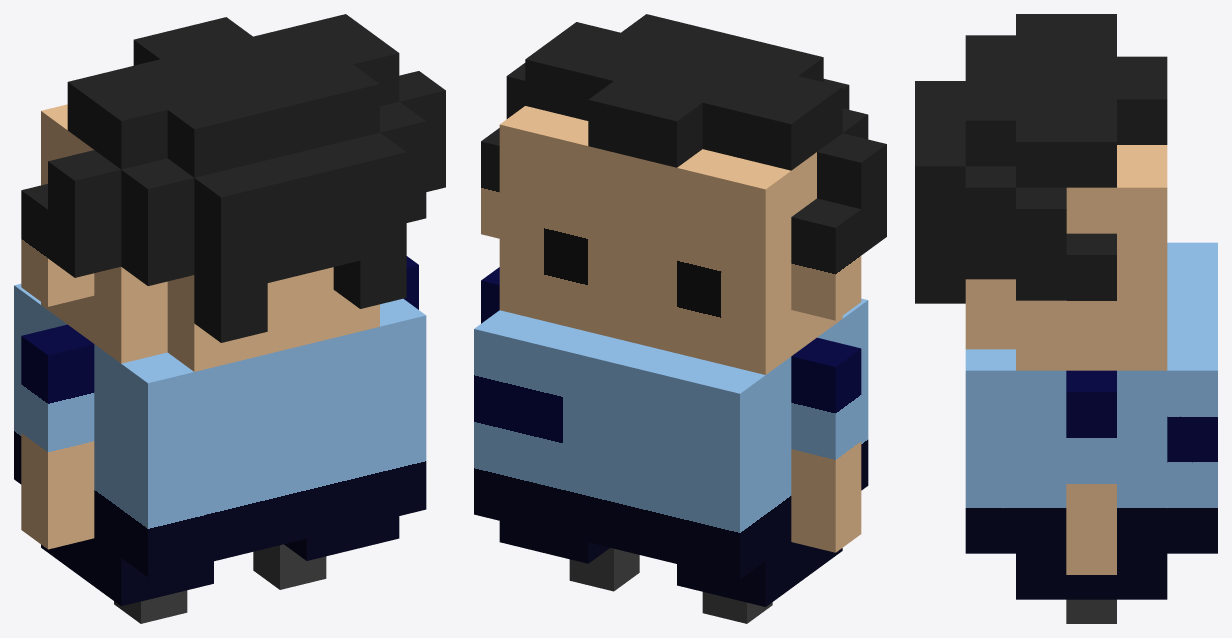
The model's file is chr_paramedic2.dae.
The picture shows the model from 3 angles, left to right: view 1: azimuth 30°, elevation 25°; view 2: azimuth 150°, elevation 25°; view 3: azimuth 270°, elevation 25°; orthographic projection. The views are drawn at different scales.
Visible parts, largest first — view 1: chr_paramedic2; view 2: chr_paramedic2; view 3: chr_paramedic2.
Part boxes in pixels (left/top/right/bottom): chr_paramedic2: left=14, top=14, right=445, bottom=623; chr_paramedic2: left=474, top=14, right=886, bottom=623; chr_paramedic2: left=915, top=14, right=1217, bottom=623.
Size of the model in its own units: 0.8 by 0.6 by 1.1.
